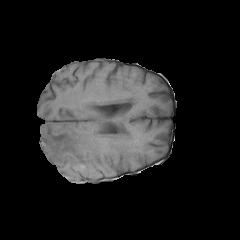glioma: (40, 98, 137, 174)
